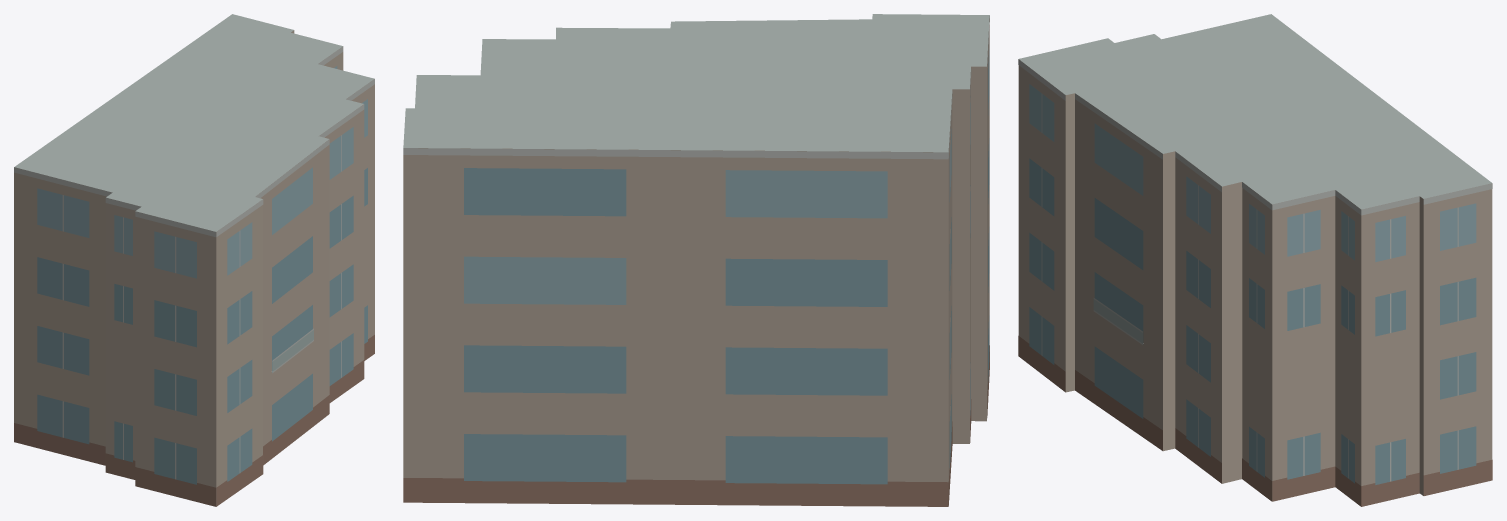
Rendered from survey-upis-32736845.glb.
3 views of the same model, side by side, from view 1: azimuth 30°, elevation 25°; view 2: azimuth 150°, elevation 25°; view 3: azimuth 270°, elevation 25° (orthographic). The views are drawn at different scales.
Visible parts, largest first — view 1: survey-upis-32736845.tmp; view 2: survey-upis-32736845.tmp; view 3: survey-upis-32736845.tmp.
Part boxes in pixels (<box>): survey-upis-32736845.tmp: <box>14,14,374,506</box>; survey-upis-32736845.tmp: <box>403,14,989,506</box>; survey-upis-32736845.tmp: <box>1018,14,1492,506</box>.
Size of the model in its own units: 17.37 by 12.3 by 17.79.
